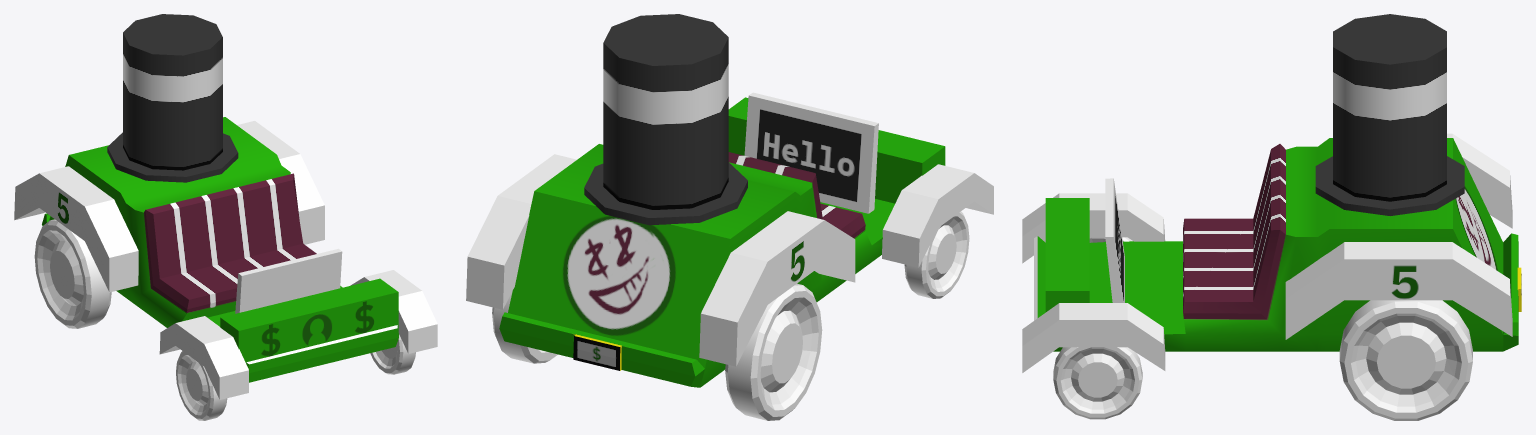
Rendered from MoneyCar.FBX.
The picture shows the model from 3 angles, left to right: view 1: azimuth 30°, elevation 25°; view 2: azimuth 150°, elevation 25°; view 3: azimuth 270°, elevation 25°; orthographic projection. The views are drawn at different scales.
Parts seen in each view (by area): view 1: Car Body, TopHat, BRWheelWell001, WheelBR, FRWheelWell001, BLWheelWell, FLWheelWell, TopHatBotton, WheelFR, WheelFL001; view 2: Car Body, TopHat, BRWheelWell001, WheelBR, BLWheelWell, FRWheelWell001, TopHatBotton, WheelFR, WheelBL001; view 3: Car Body, TopHat, WheelBL001, BLWheelWell, FLWheelWell, WheelFL001, FRWheelWell001, TopHatBotton, BRWheelWell001.
Part boxes in pixels (<box>): Car Body: <box>42,117,398,382</box>; TopHat: <box>123,14,222,170</box>; BRWheelWell001: <box>14,166,138,292</box>; WheelBR: <box>34,219,111,328</box>; FRWheelWell001: <box>159,316,248,399</box>; BLWheelWell: <box>237,121,324,244</box>; FLWheelWell: <box>350,270,437,353</box>; TopHatBotton: <box>107,132,238,182</box>; WheelFR: <box>176,351,227,420</box>; WheelFL001: <box>370,334,415,374</box>; Car Body: <box>499,92,945,387</box>; TopHat: <box>603,14,728,209</box>; BRWheelWell001: <box>699,211,855,366</box>; WheelBR: <box>725,283,822,420</box>; BLWheelWell: <box>466,154,576,309</box>; FRWheelWell001: <box>882,164,993,267</box>; TopHatBotton: <box>584,162,747,225</box>; WheelFR: <box>904,211,969,298</box>; WheelBL001: <box>492,291,557,363</box>; Car Body: <box>1034,138,1521,351</box>; TopHat: <box>1333,14,1446,201</box>; WheelBL001: <box>1339,300,1472,420</box>; BLWheelWell: <box>1285,242,1512,339</box>; FLWheelWell: <box>1022,303,1165,372</box>; WheelFL001: <box>1053,347,1142,419</box>; FRWheelWell001: <box>1022,193,1165,263</box>; TopHatBotton: <box>1315,156,1464,215</box>; BRWheelWell001: <box>1447,133,1512,228</box>.
Bounding box in the file's own units: 35.61 × 42.12 × 59.23.
6 materials, 5 textured.
